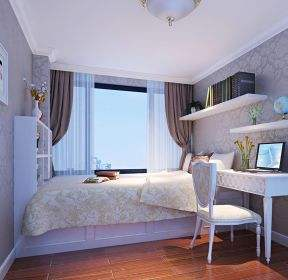床: (28, 176, 194, 255)
枕头: (185, 151, 233, 178)
灯: (139, 1, 201, 33)
